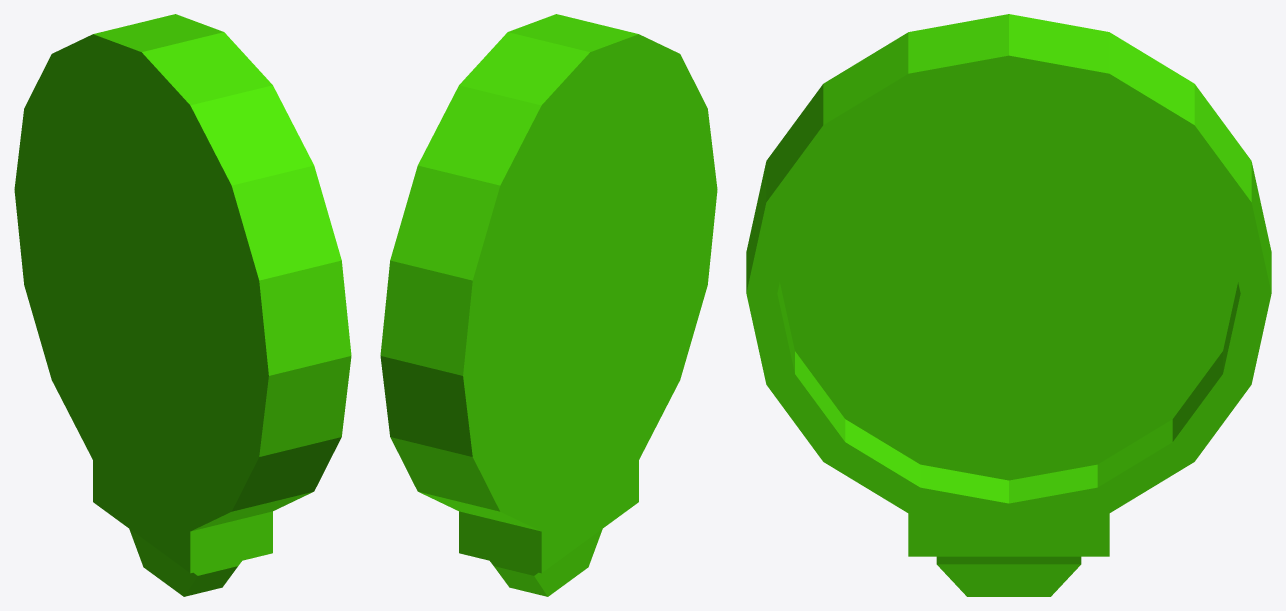
Rendered from Manometro.fbx.
3 views of the same model, side by side, from view 1: azimuth 30°, elevation 25°; view 2: azimuth 150°, elevation 25°; view 3: azimuth 270°, elevation 25° (orthographic). The views are drawn at different scales.
Parts seen in each view (by area): view 1: Manometro; view 2: Manometro; view 3: Manometro.
Boxes of the visible parts, x1,y1,x2,y2 form: Manometro: (14, 14, 351, 596); Manometro: (380, 14, 717, 596); Manometro: (746, 14, 1271, 596).
Bounding box in the file's own units: 8.58 × 53.13 × 45.78.
